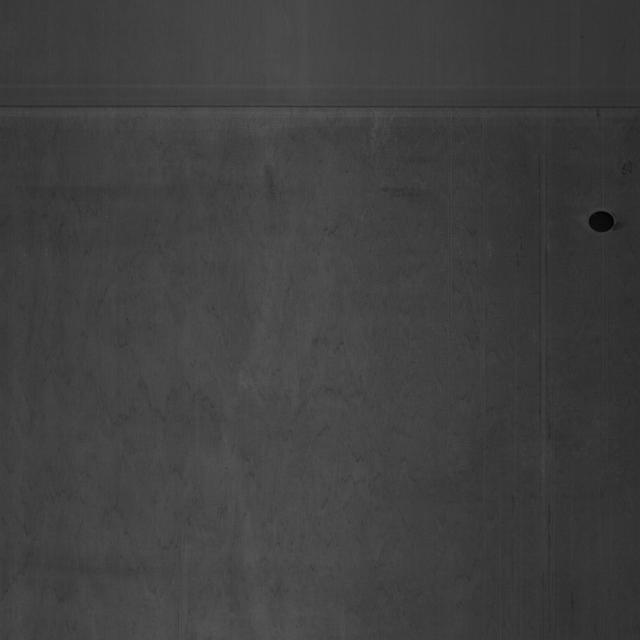crease: (4, 74, 633, 136)
crescent_gap: (586, 206, 620, 238)
inclusion: (8, 159, 518, 620)
